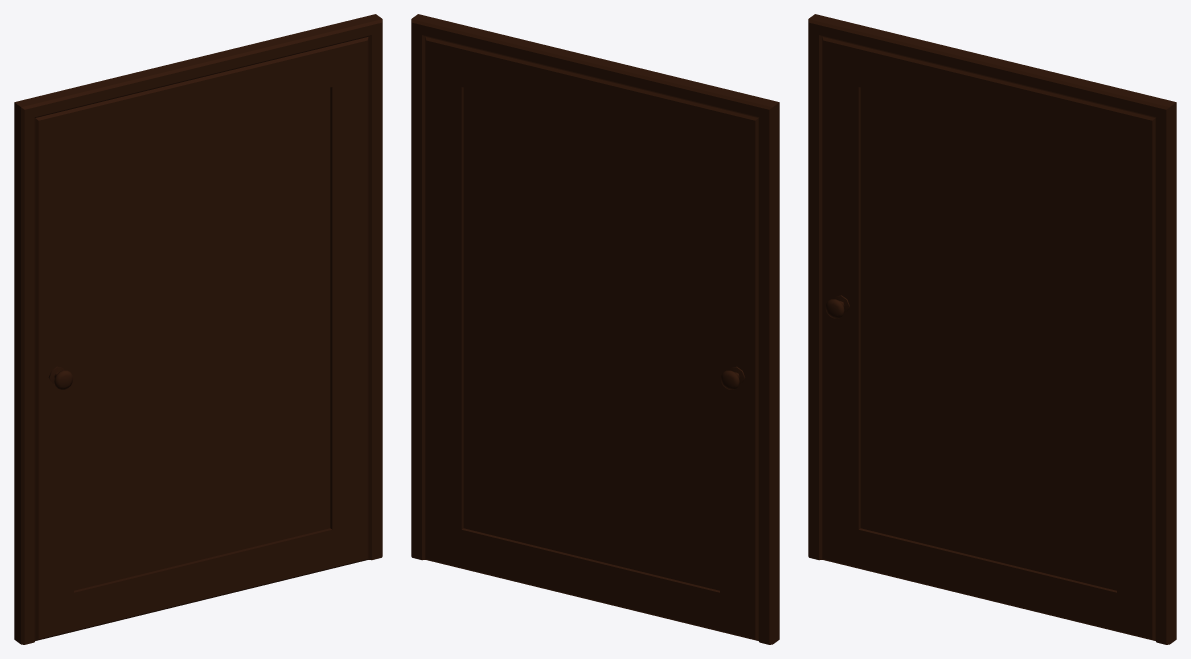
File: Door.fbx
The picture shows the model from 3 angles, left to right: view 1: azimuth 30°, elevation 25°; view 2: azimuth 150°, elevation 25°; view 3: azimuth 330°, elevation 25°; orthographic projection.
Parts seen in each view (by area): view 1: Door, DoorFrame; view 2: Door, DoorFrame; view 3: Door, DoorFrame.
Boxes of the visible parts, bbox=[...] form: Door: bbox=[35, 37, 368, 640]; DoorFrame: bbox=[14, 14, 382, 644]; Door: bbox=[425, 37, 758, 640]; DoorFrame: bbox=[411, 14, 779, 644]; Door: bbox=[822, 37, 1155, 640]; DoorFrame: bbox=[808, 14, 1176, 644].
Size of the model in its own units: 217 by 308 by 27.83.
